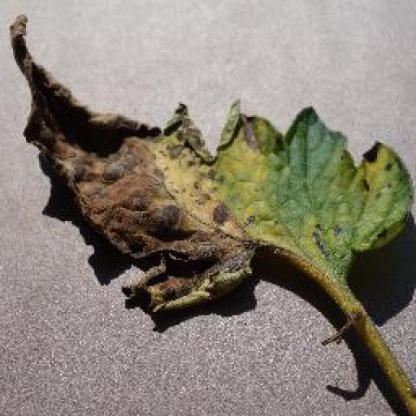Tomato_Blight: (11, 14, 412, 324)
